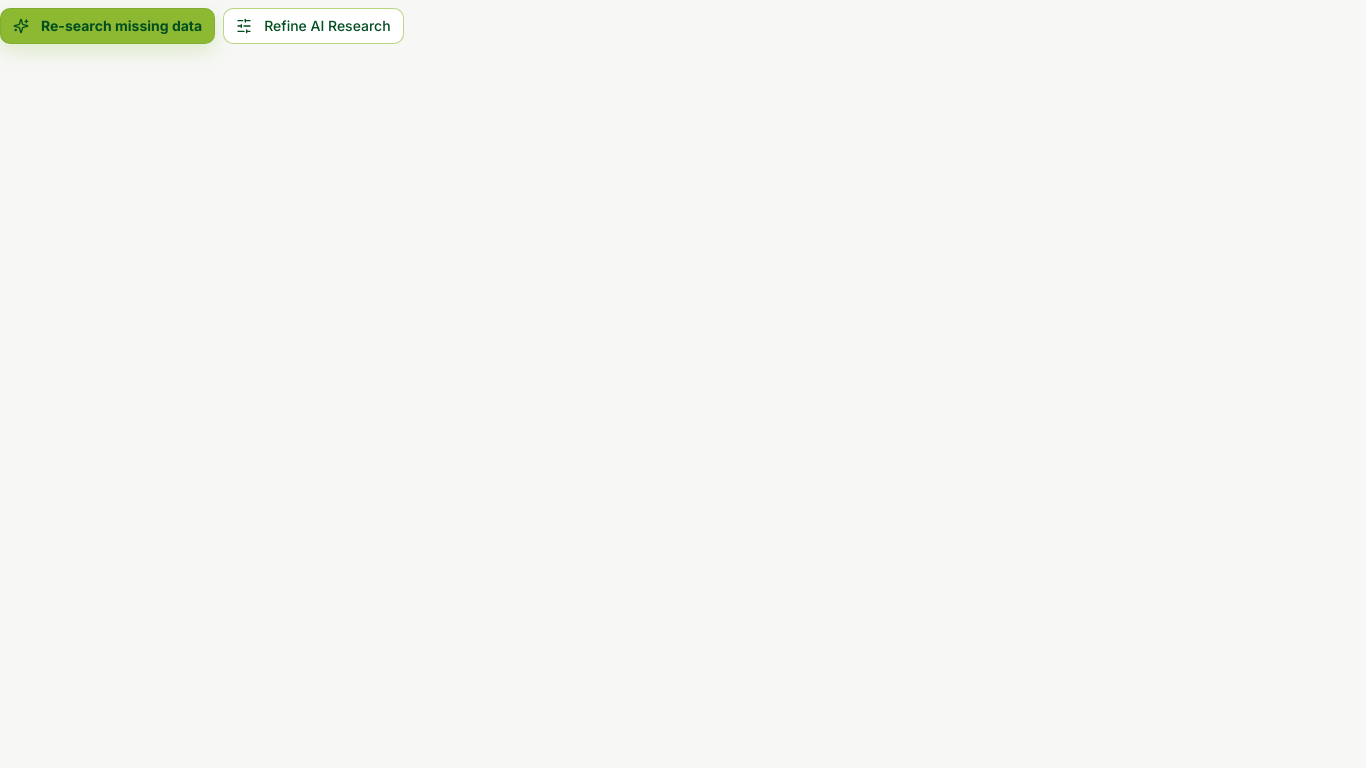
Test case: Chemical V3 research hints › save & re-search awaits RPC, retries same job, then opens the new revision
The image size is (1366, 768).
Later steps or results of the test are not shown.
Step 1. Click the button "Refine AI Research" → {"x": 313, "y": 26}, box [223,8,404,44]
(page scrolled)
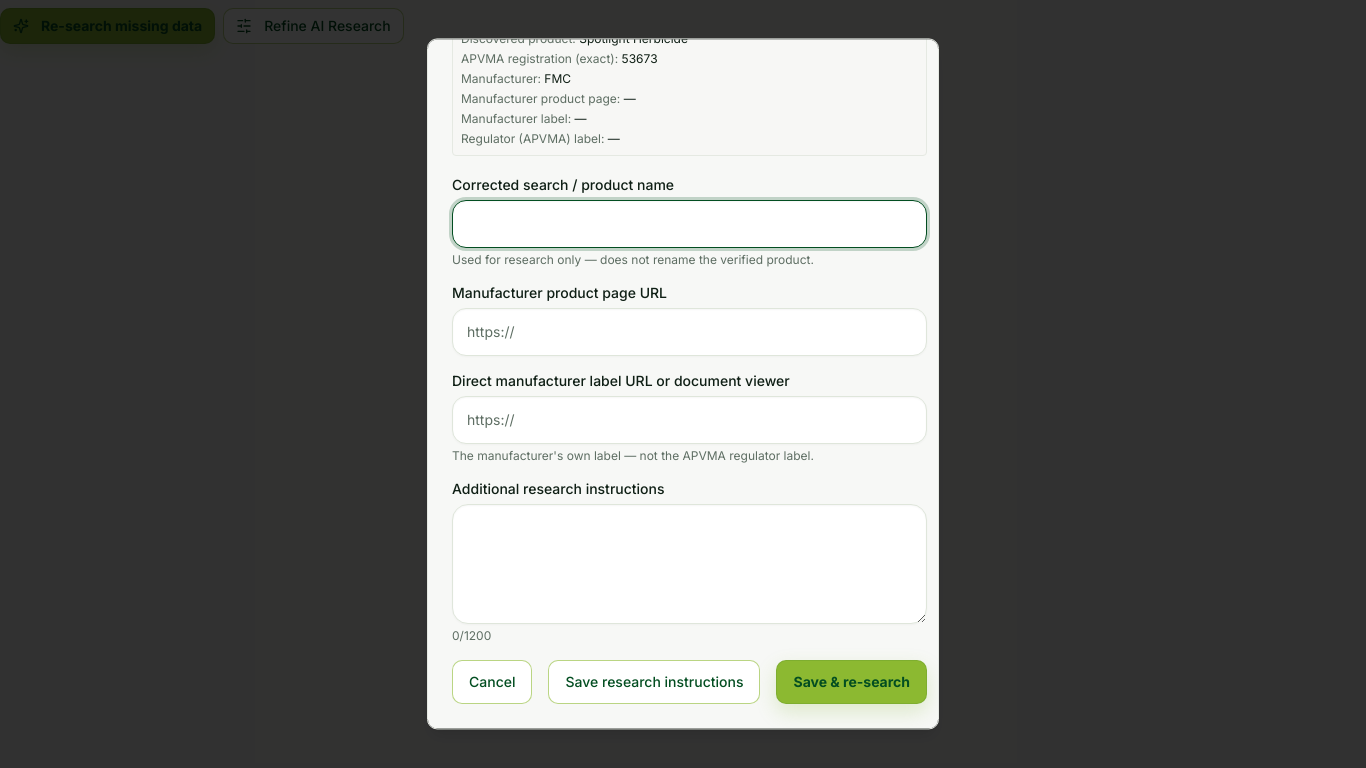
Result: the dialog with test id "v3-hints-dialog" is shown at [427,38,939,730]
